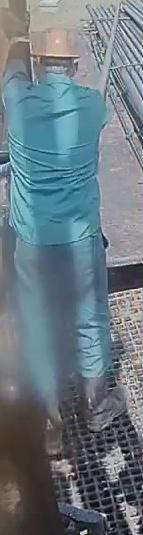gloves: (0, 5, 31, 43)
helmet: (33, 27, 83, 62)
vest: (2, 70, 107, 246)
